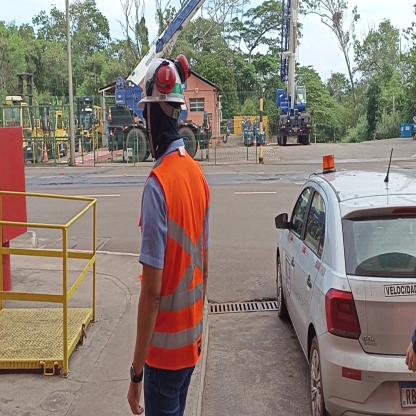Balaclava: (143, 107, 181, 153)
Capacete: (139, 57, 185, 105)
colete: (142, 161, 203, 369)
